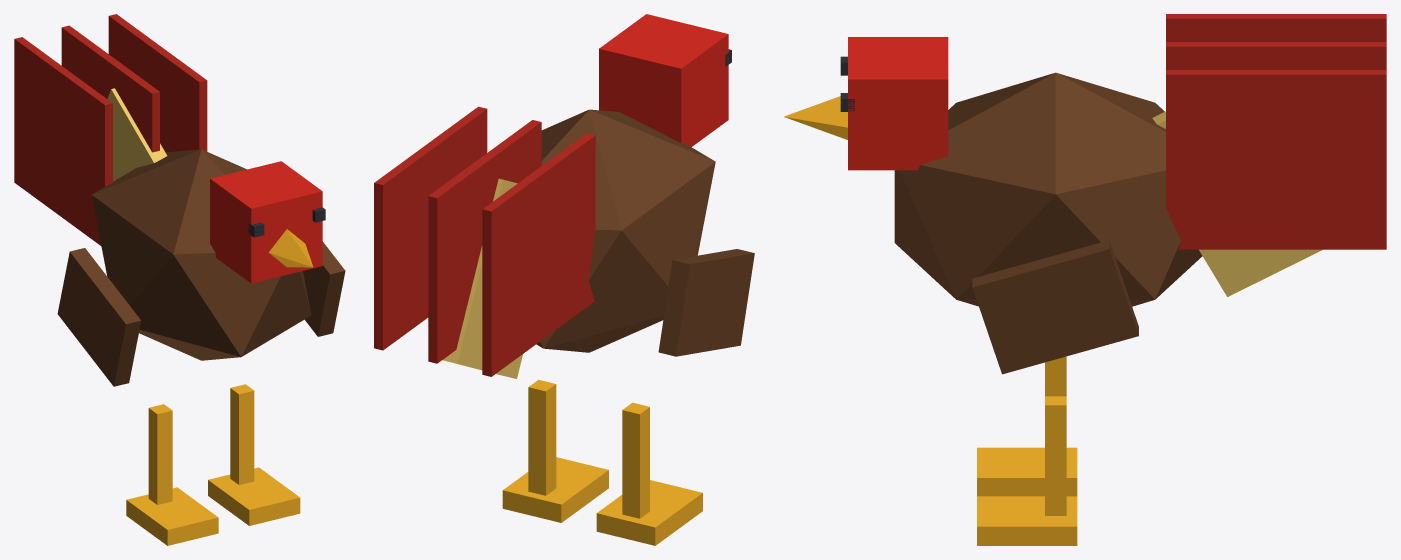
Rendered from turkey.glb.
The picture shows the model from 3 angles, left to right: view 1: azimuth 30°, elevation 25°; view 2: azimuth 150°, elevation 25°; view 3: azimuth 270°, elevation 25°; orthographic projection. The views are drawn at different scales.
Visible parts, largest first — view 1: turkey; view 2: turkey; view 3: turkey.
Boxes of the visible parts, bbox=[...] form: turkey: bbox=[14, 14, 345, 545]; turkey: bbox=[374, 14, 754, 545]; turkey: bbox=[784, 14, 1386, 545].
Size of the model in its own units: 0.559 by 0.925 by 1.09.
